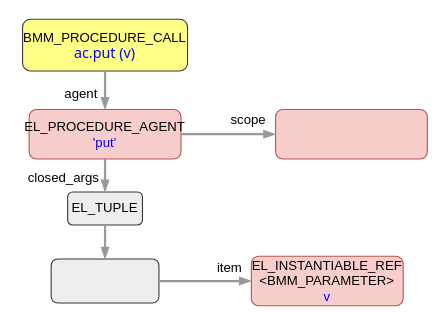
Some shapes in this 447 by 326 pixel diagram are drawn without their labels. Here are the shapes that lost their labels. From the top down, the centre of each, then its label:
(x=350, y=133): EL_INSTANTIABLE_REF <BMM_PARAMETER> ac
(x=104, y=280): EL_TUPLE_ITEM 'val'
